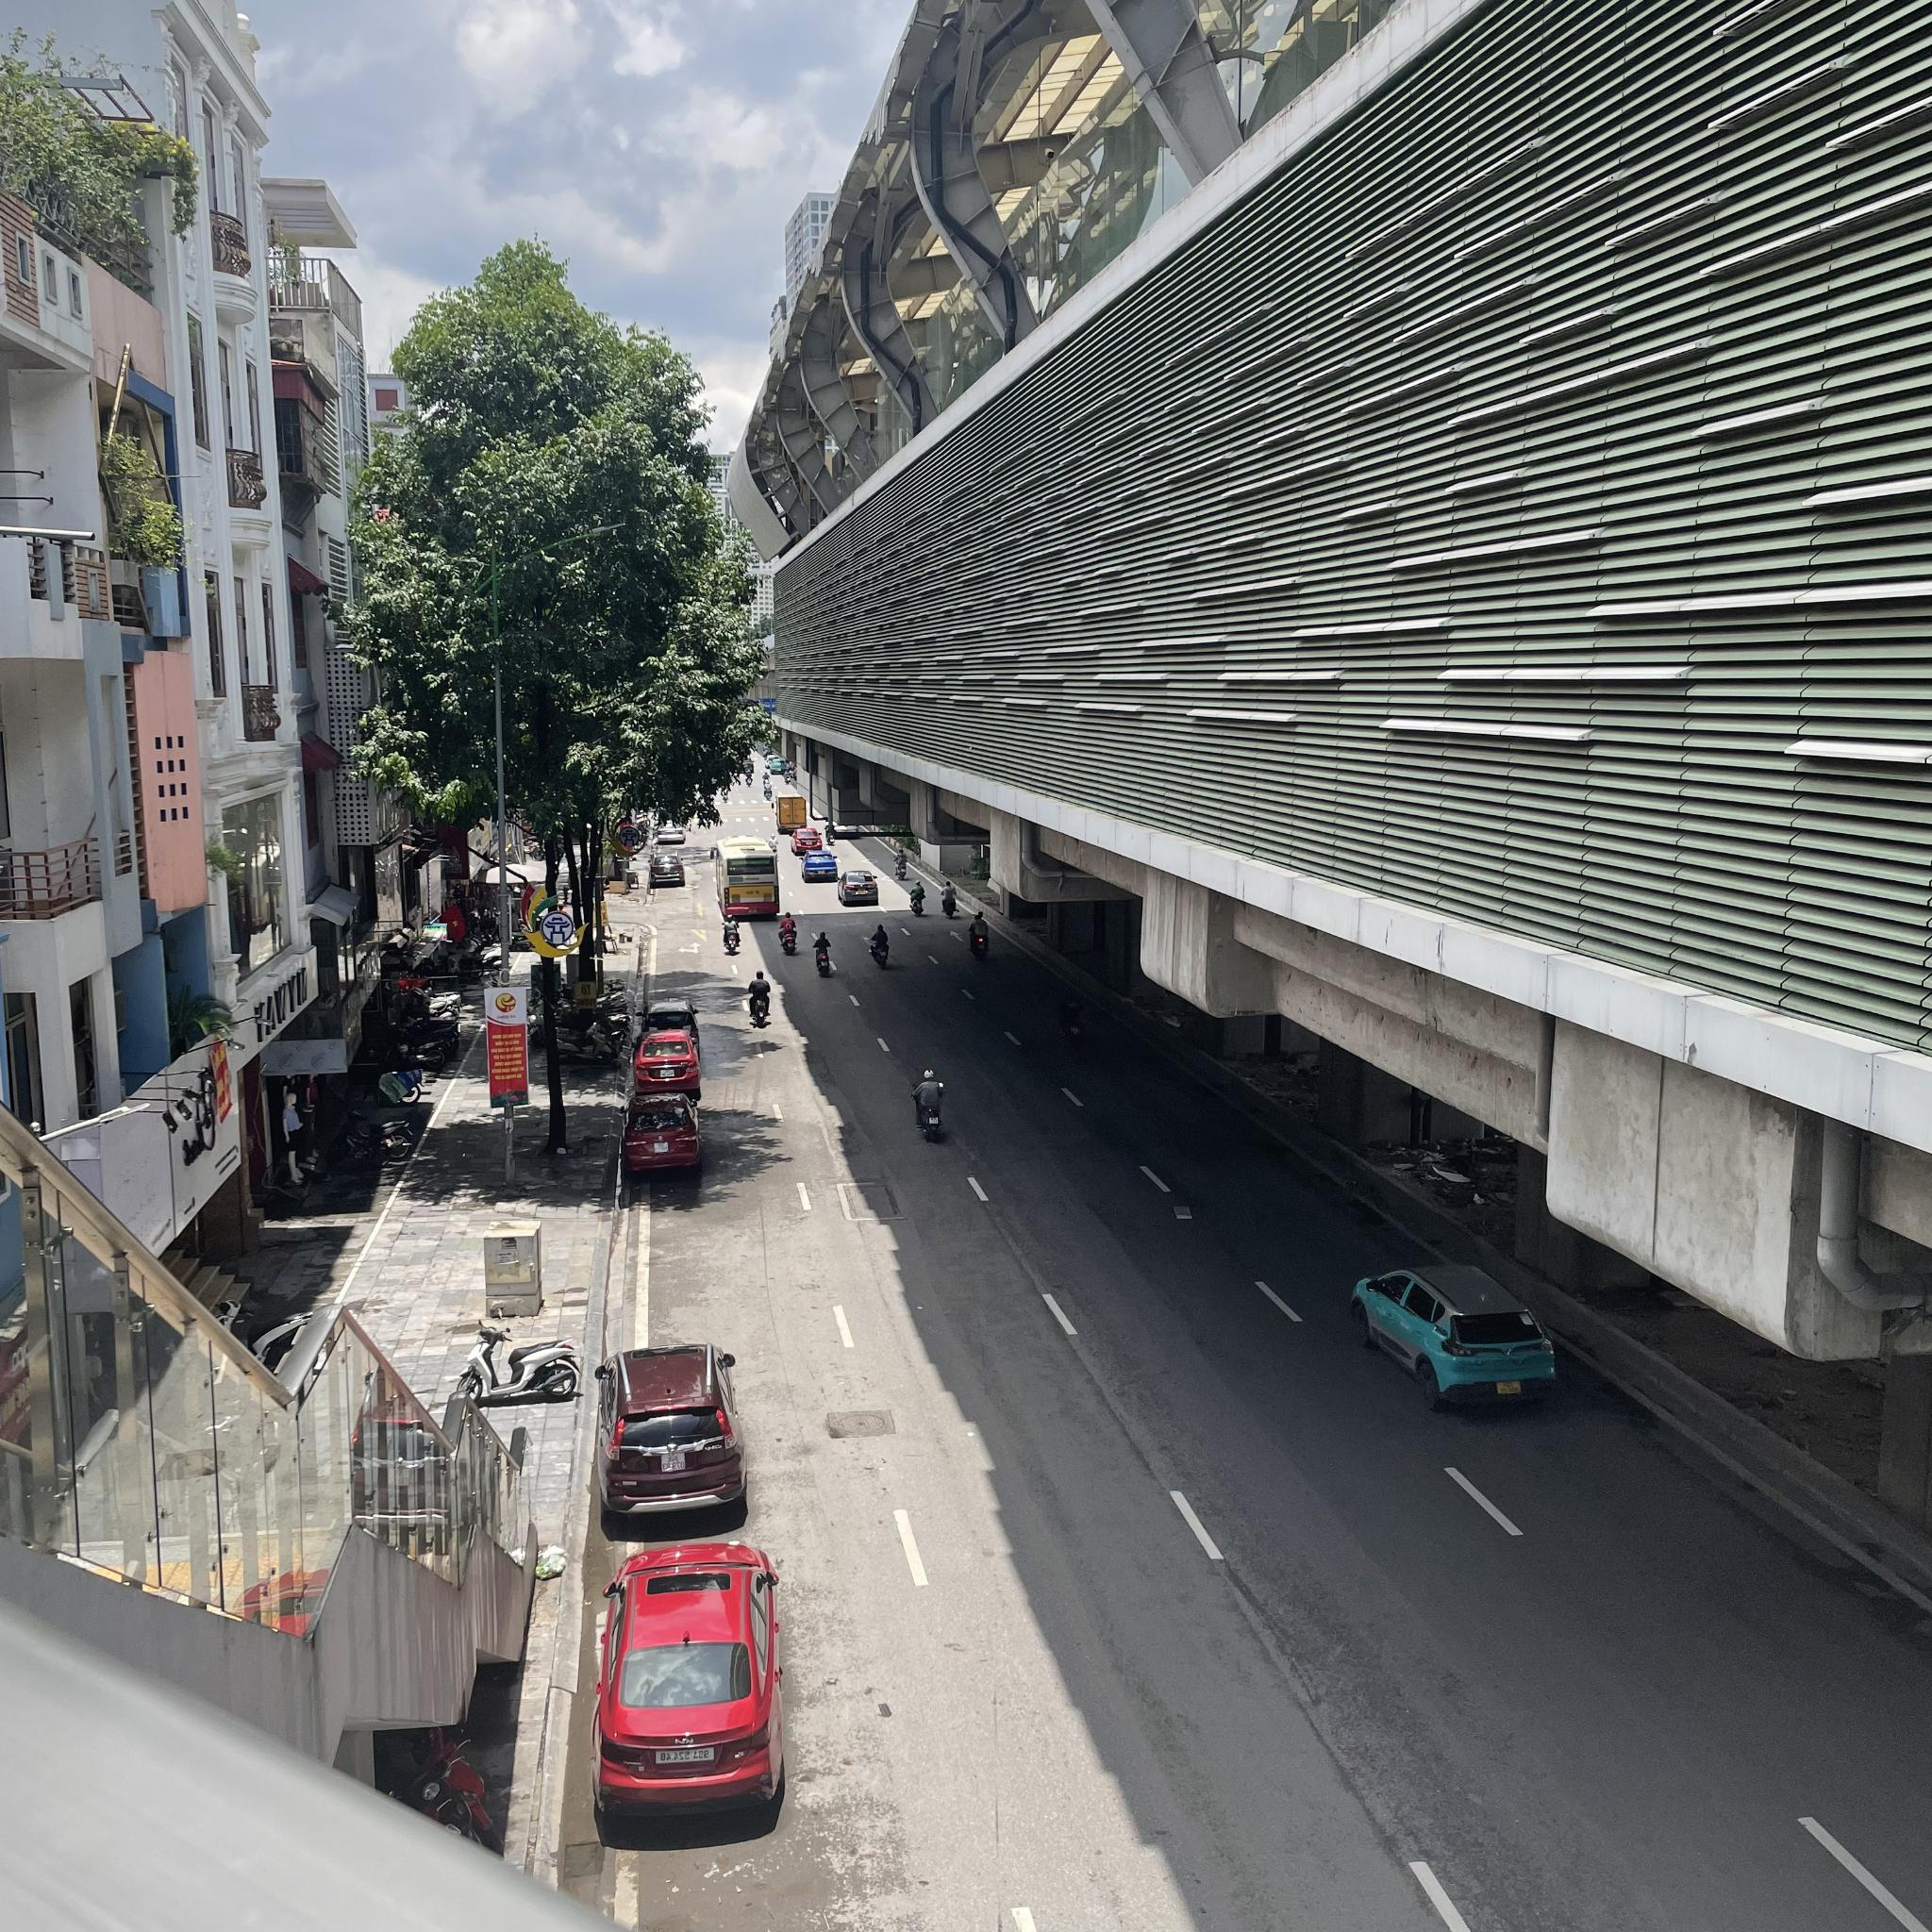car: (594, 1537, 786, 1842), (1343, 1251, 1559, 1426), (594, 1338, 738, 1529), (621, 1092, 711, 1182), (718, 837, 780, 916), (632, 1033, 706, 1099), (646, 1001, 706, 1053), (837, 867, 878, 906), (773, 789, 805, 835), (801, 851, 840, 883), (649, 853, 685, 879), (793, 828, 821, 856)
motobike: (444, 1318, 584, 1405), (904, 1063, 948, 1139), (1054, 989, 1092, 1054), (743, 970, 771, 1030), (962, 913, 994, 962), (809, 929, 832, 978), (777, 913, 800, 955), (902, 881, 927, 915), (865, 927, 886, 966), (934, 878, 957, 913), (720, 915, 738, 957), (892, 846, 913, 879)
